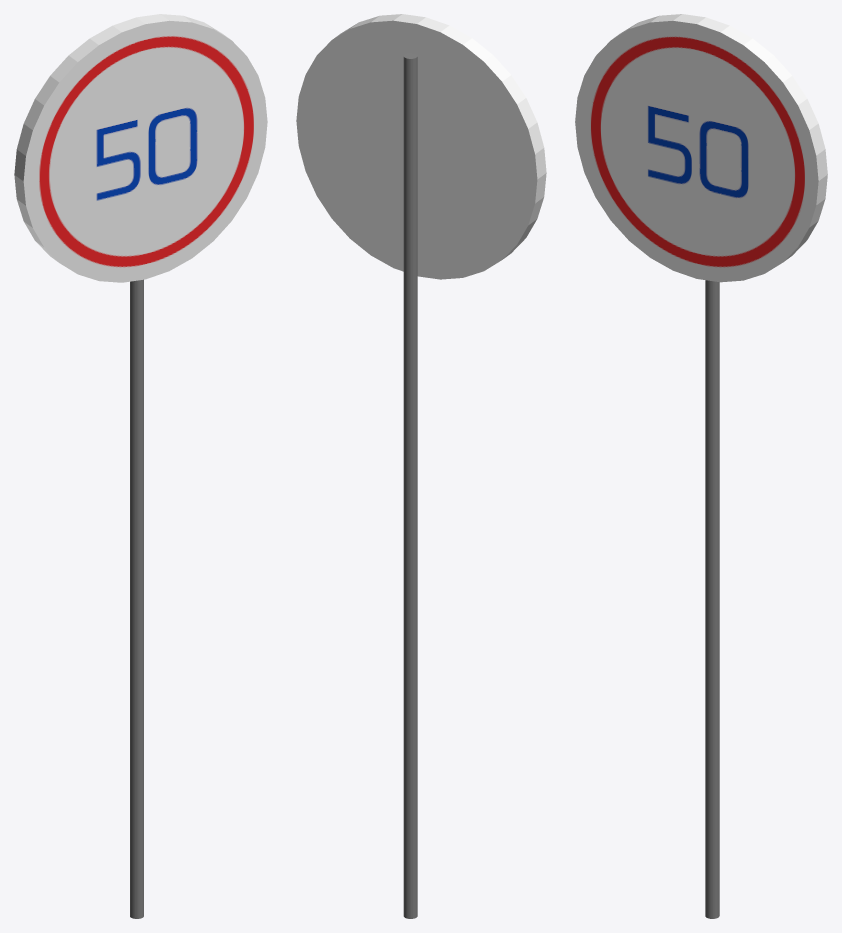
Rendered from Traffic Sign_Circle_1obj.fbx.
The picture shows the model from 3 angles, left to right: view 1: azimuth 30°, elevation 25°; view 2: azimuth 150°, elevation 25°; view 3: azimuth 330°, elevation 25°; orthographic projection.
Parts seen in each view (by area): view 1: Cylinder; view 2: Cylinder; view 3: Cylinder.
Boxes of the visible parts, <box> form: Cylinder: <box>14,14,267,918</box>; Cylinder: <box>296,14,546,918</box>; Cylinder: <box>575,14,827,918</box>.
Bounding box in the file's own units: 200 × 706 × 22.3.
